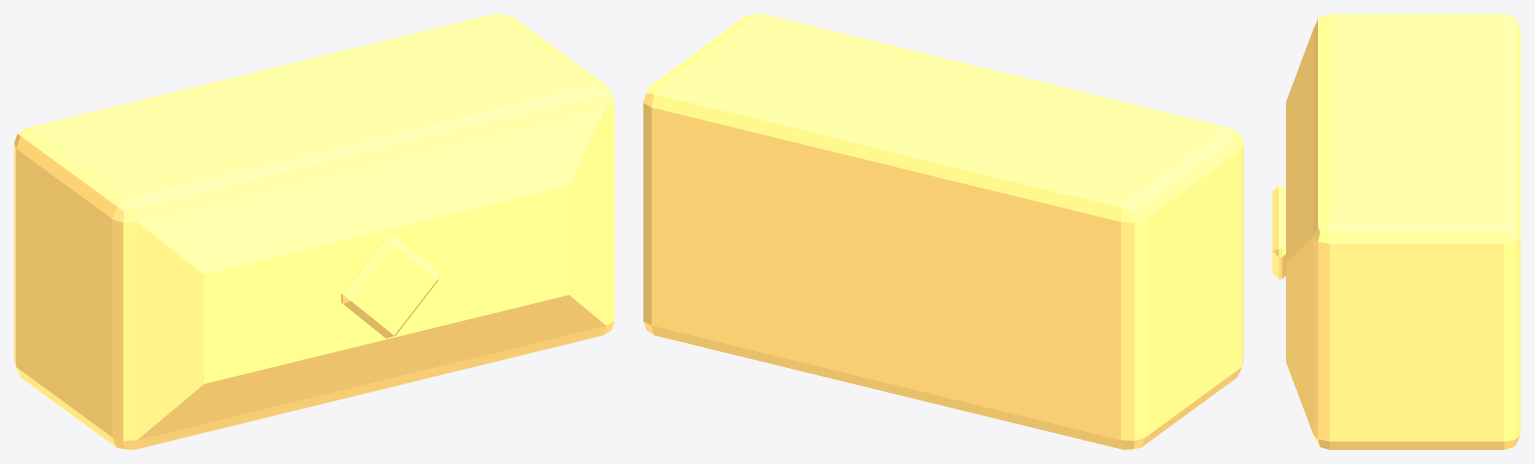
The model's file is brick_gold.glb.
The picture shows the model from 3 angles, left to right: view 1: azimuth 30°, elevation 25°; view 2: azimuth 150°, elevation 25°; view 3: azimuth 270°, elevation 25°; orthographic projection. The views are drawn at different scales.
Visible parts, largest first — view 1: brick_gold; view 2: brick_gold; view 3: brick_gold.
Part boxes in pixels (x1,y1,x2,y2): brick_gold: (14, 14, 614, 449); brick_gold: (643, 14, 1243, 449); brick_gold: (1272, 14, 1520, 449).
Size of the model in its own units: 0.96 by 0.46 by 0.455.
